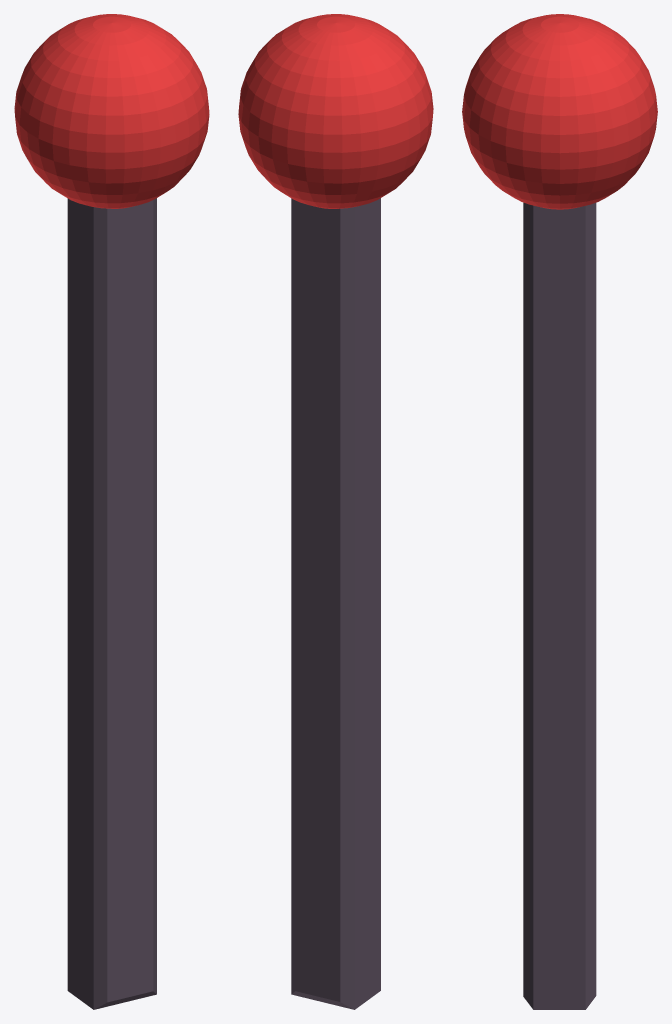
The model's file is Lever.fbx.
3 renders of one model, left to right at view 1: azimuth 30°, elevation 25°; view 2: azimuth 150°, elevation 25°; view 3: azimuth 270°, elevation 25°, orthographic.
Visible parts, largest first — view 1: Cube; view 2: Cube; view 3: Cube.
Boxes of the visible parts, x1,y1,x2,y2 form: Cube: [14, 14, 209, 1009]; Cube: [238, 14, 433, 1009]; Cube: [462, 14, 657, 1009].
Bounding box in the file's own units: 68.29 × 374 × 68.29.
